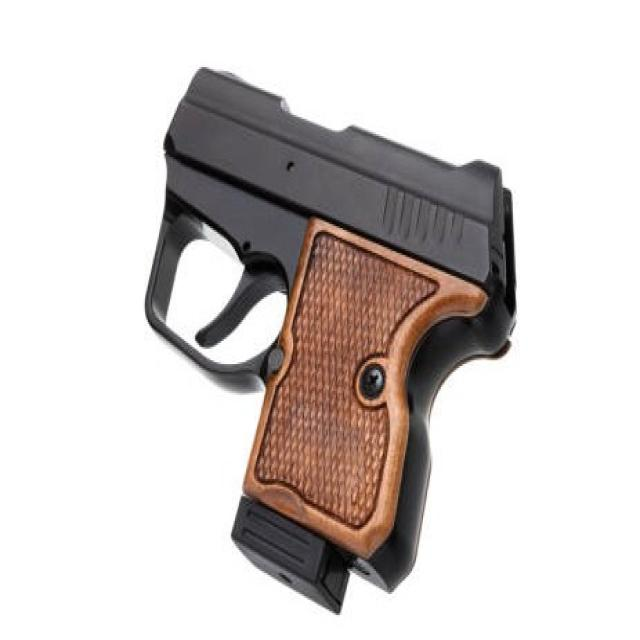pistol: (137, 56, 536, 625)
